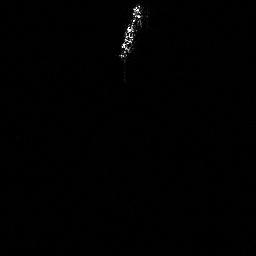ship: (114, 2, 151, 63)
